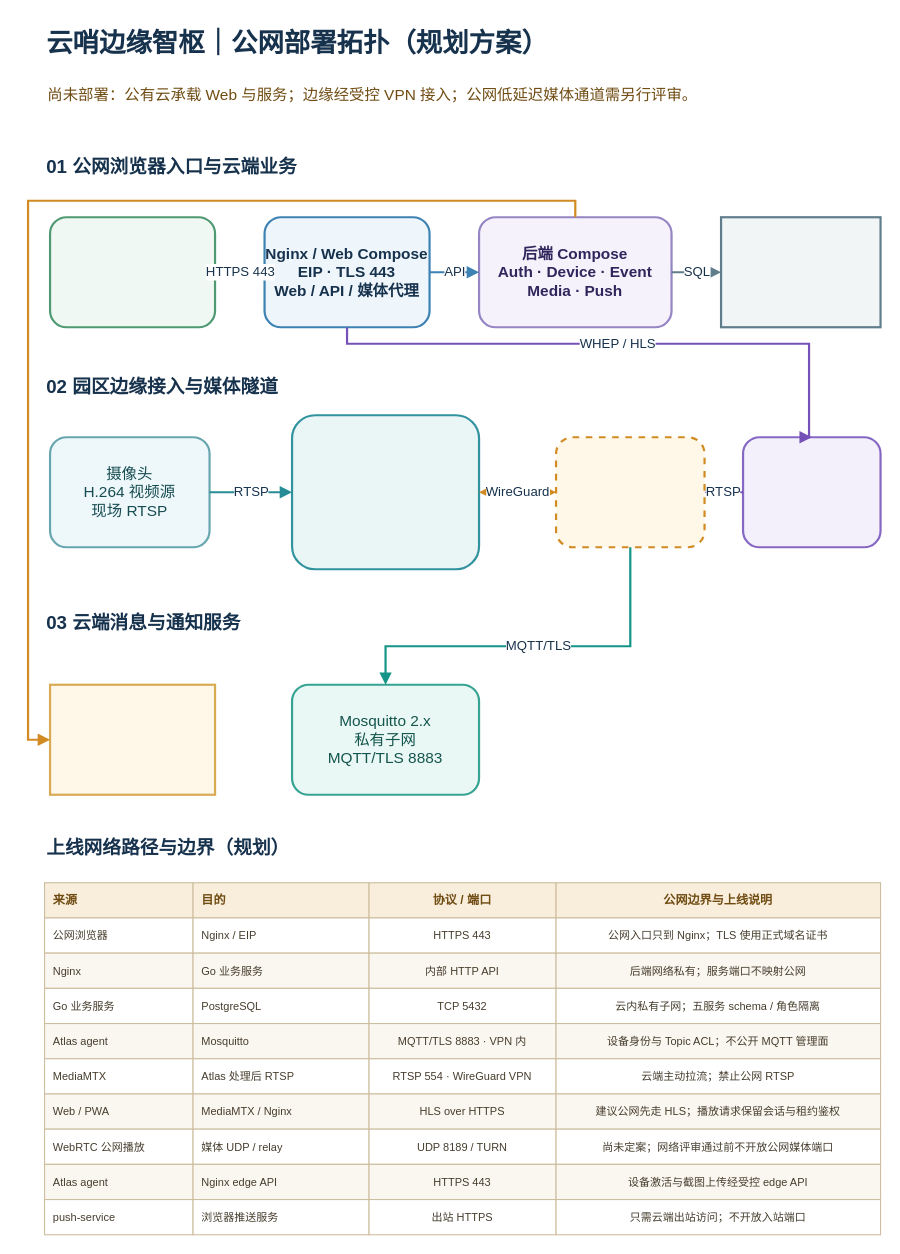
This 900x1254 diagram has some shape labels left out. Here are the shapes that lost their labels. From the top down, the centre of each, then its label:
At (132,272): "Web / PWA 客户端 公网 DNS HTTPS 访问".
At (800,272): "PostgreSQL 私有子网 TCP 5432".
At (385,492): "Atlas 200I DK A2 classroom-runtime agent · SQLite outbox MQTT/TLS · HTTPS".
At (629,492): "WireGuard site-to-cloud VPN 规划新增".
At (811,492): "MediaMTX 私有云子网 RTSP pull / HLS".
At (132,739): "浏览器推送服务 外部 HTTPS 系统出站调用".
